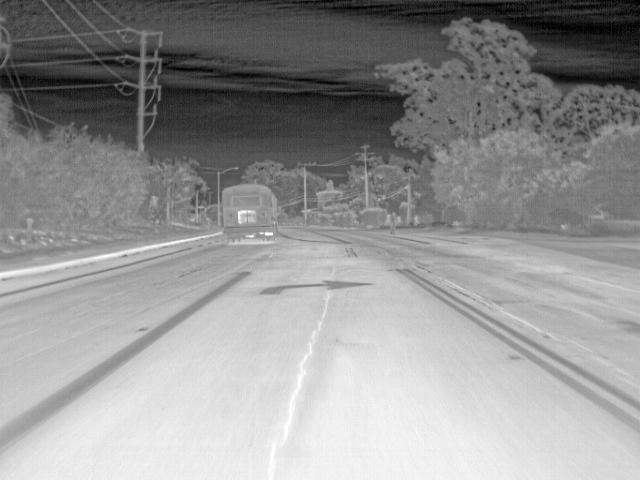person: (390, 209, 398, 222)
